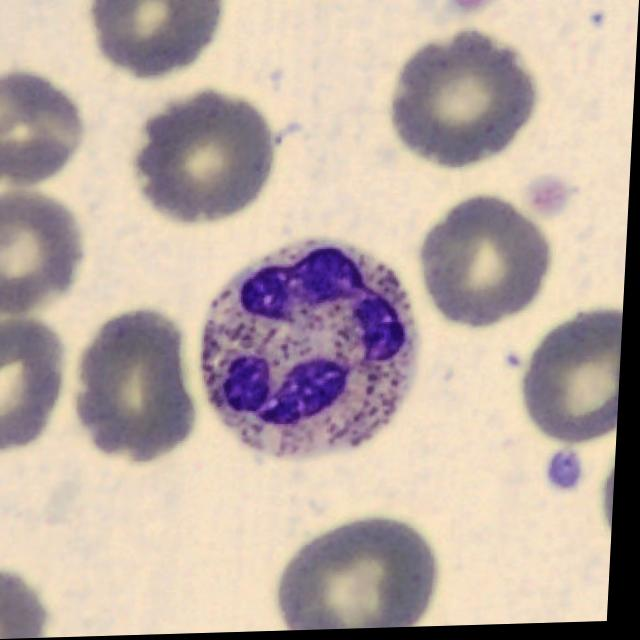Neutrofilo segmentado: (205, 240, 423, 461)
